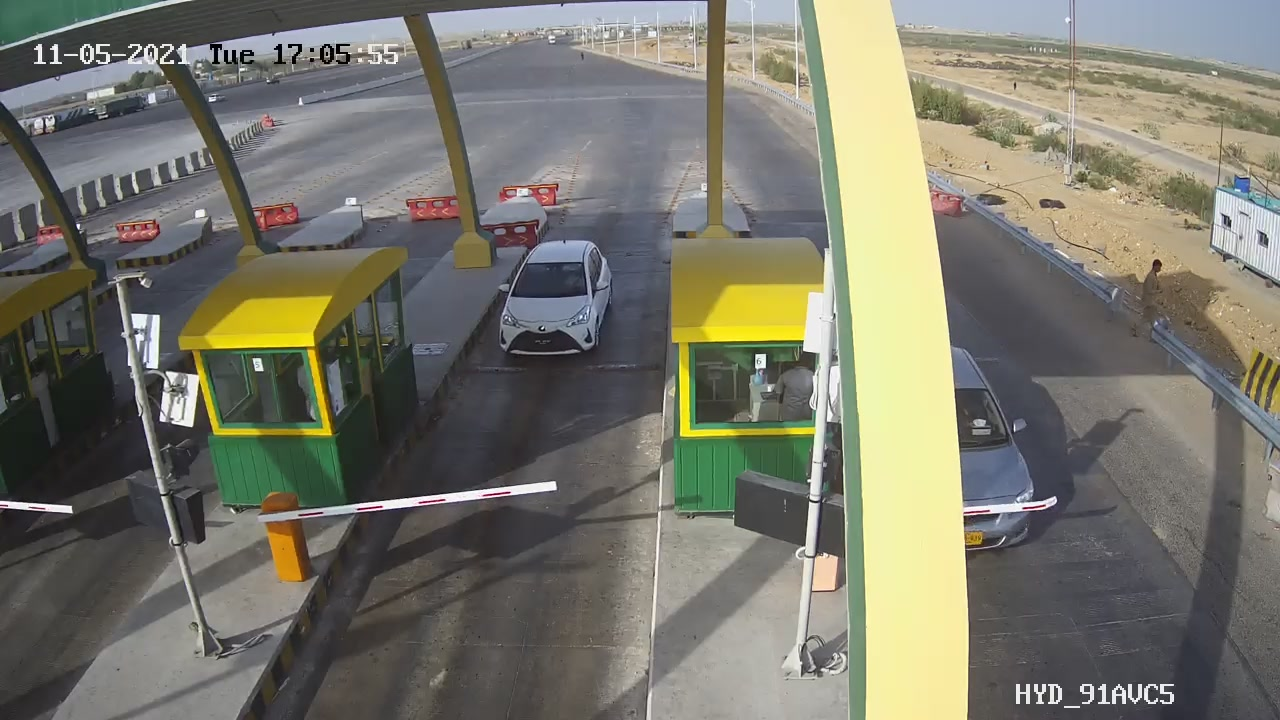F1: (466, 213, 655, 404)
